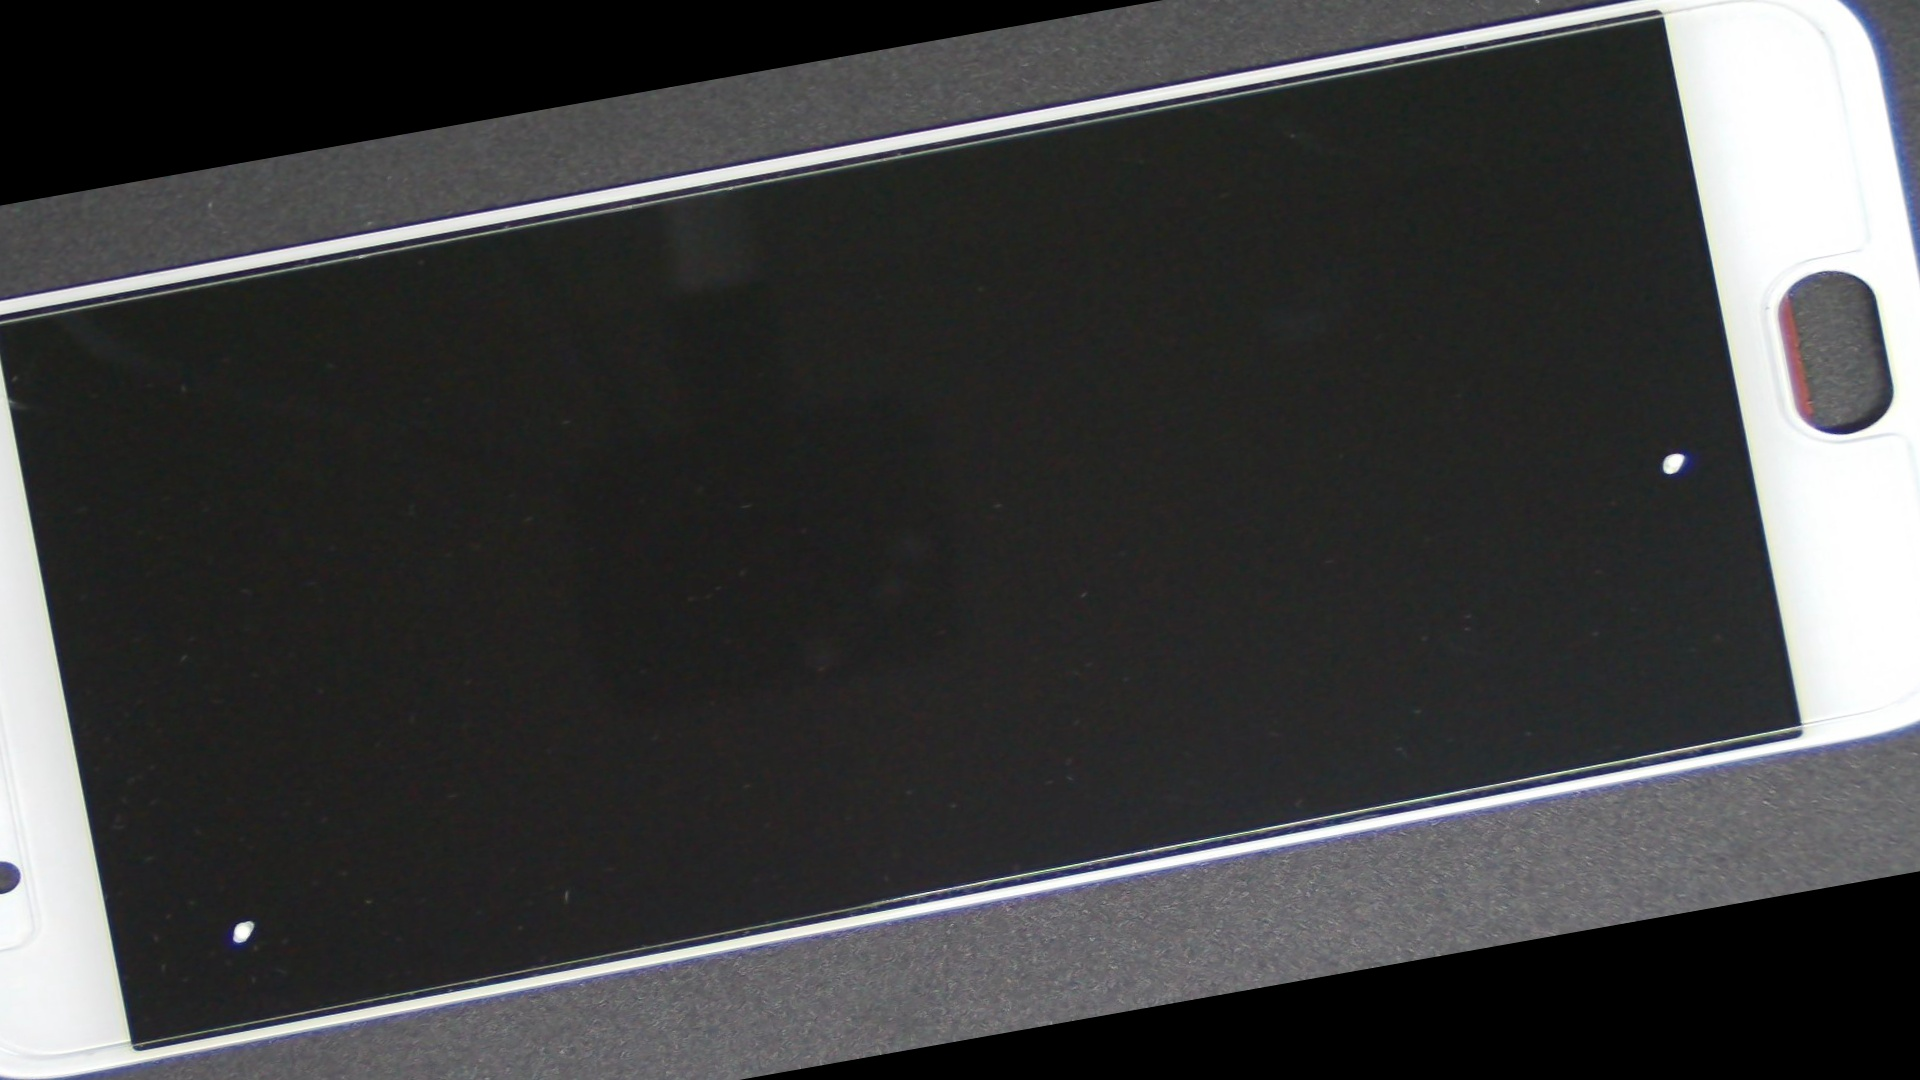oil: (669, 132, 1920, 885), (0, 512, 516, 1080)
